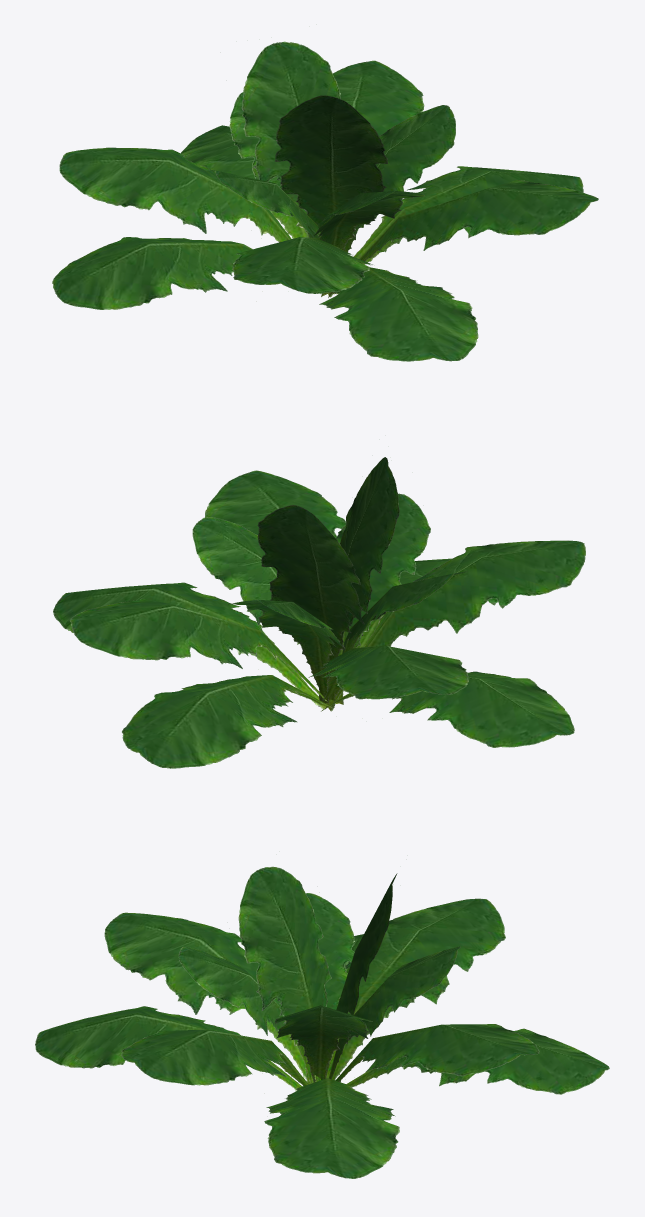
Rendered from plant1.FBX.
3 views of the same model, one above another, from view 1: azimuth 30°, elevation 25°; view 2: azimuth 150°, elevation 25°; view 3: azimuth 270°, elevation 25° (orthographic). The views are drawn at different scales.
Visible parts, largest first — view 1: plant1; view 2: plant1; view 3: plant1.
Part boxes in pixels (box(x1,y1,x2,y2)): plant1: box(52, 41, 598, 361); plant1: box(53, 457, 585, 768); plant1: box(35, 866, 609, 1178).
Bounding box in the file's own units: 8.65 × 3.9 × 8.83.
